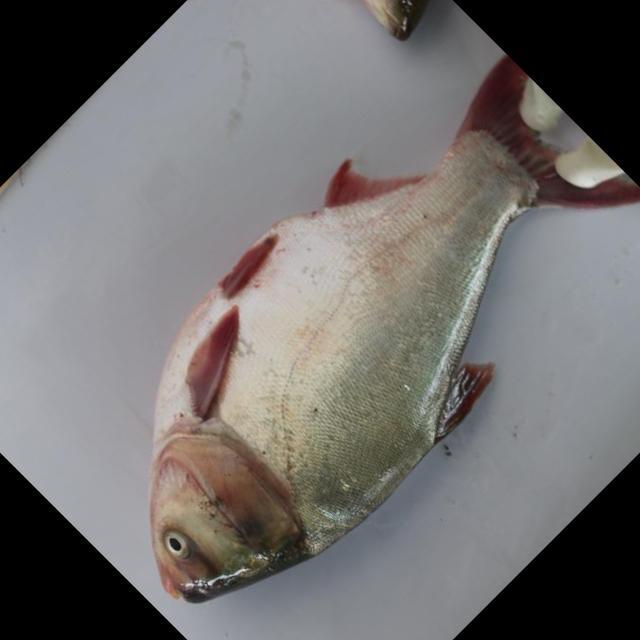SilverCarp: (60, 54, 607, 606)
